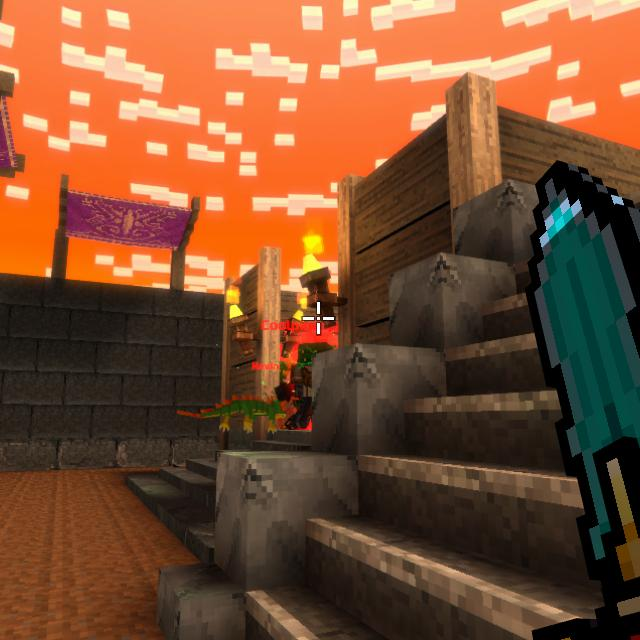Enemy: (285, 342, 334, 430)
